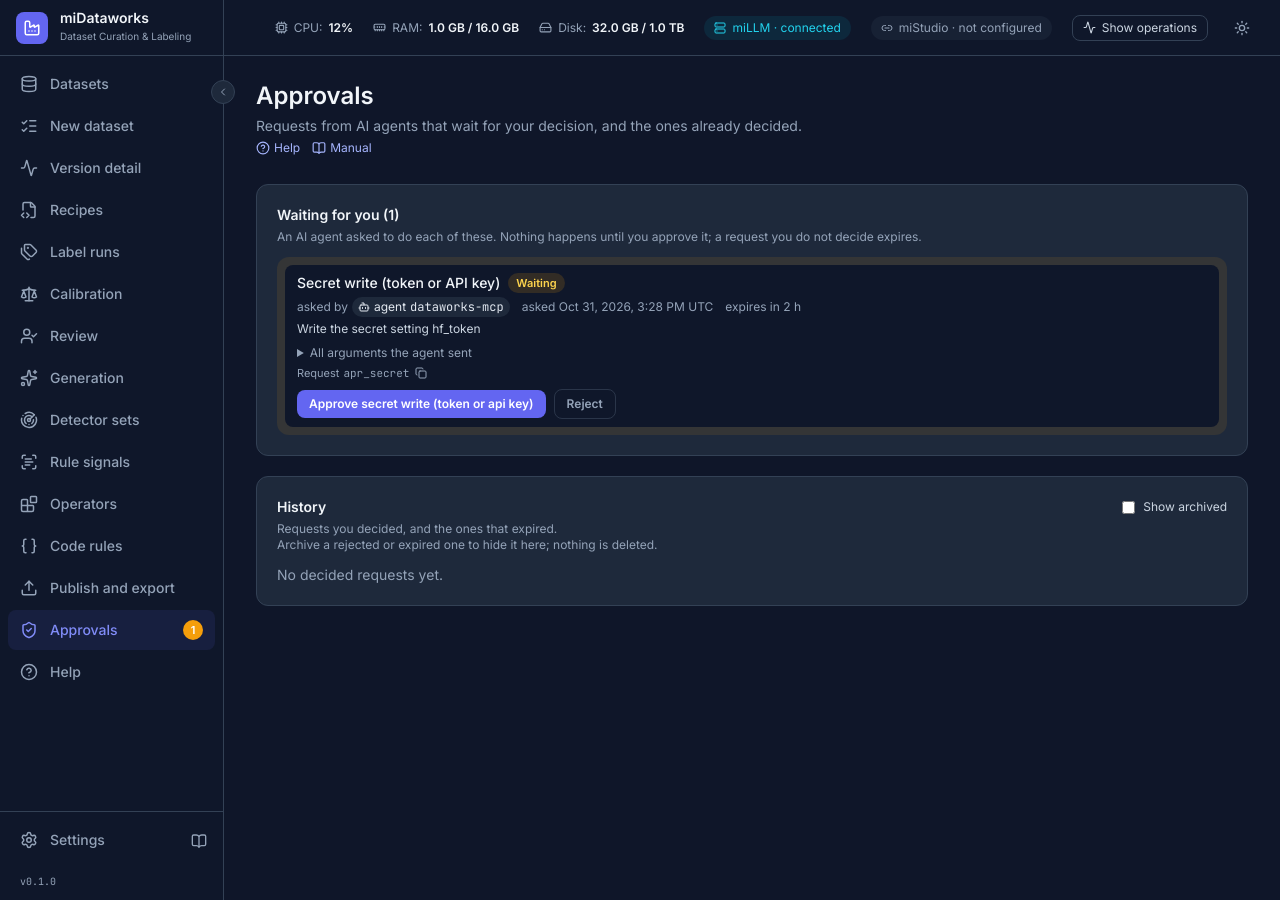
approving from the Approvals screen › approving a settings change asks for the Settings PIN, then sends the approval again with the session (014)
This screenshot has width=1280, height=900.
Step 1. Click the button "Approve secret write (token or api key)" → (421, 404), box x1=297 y1=390 x2=546 y2=418
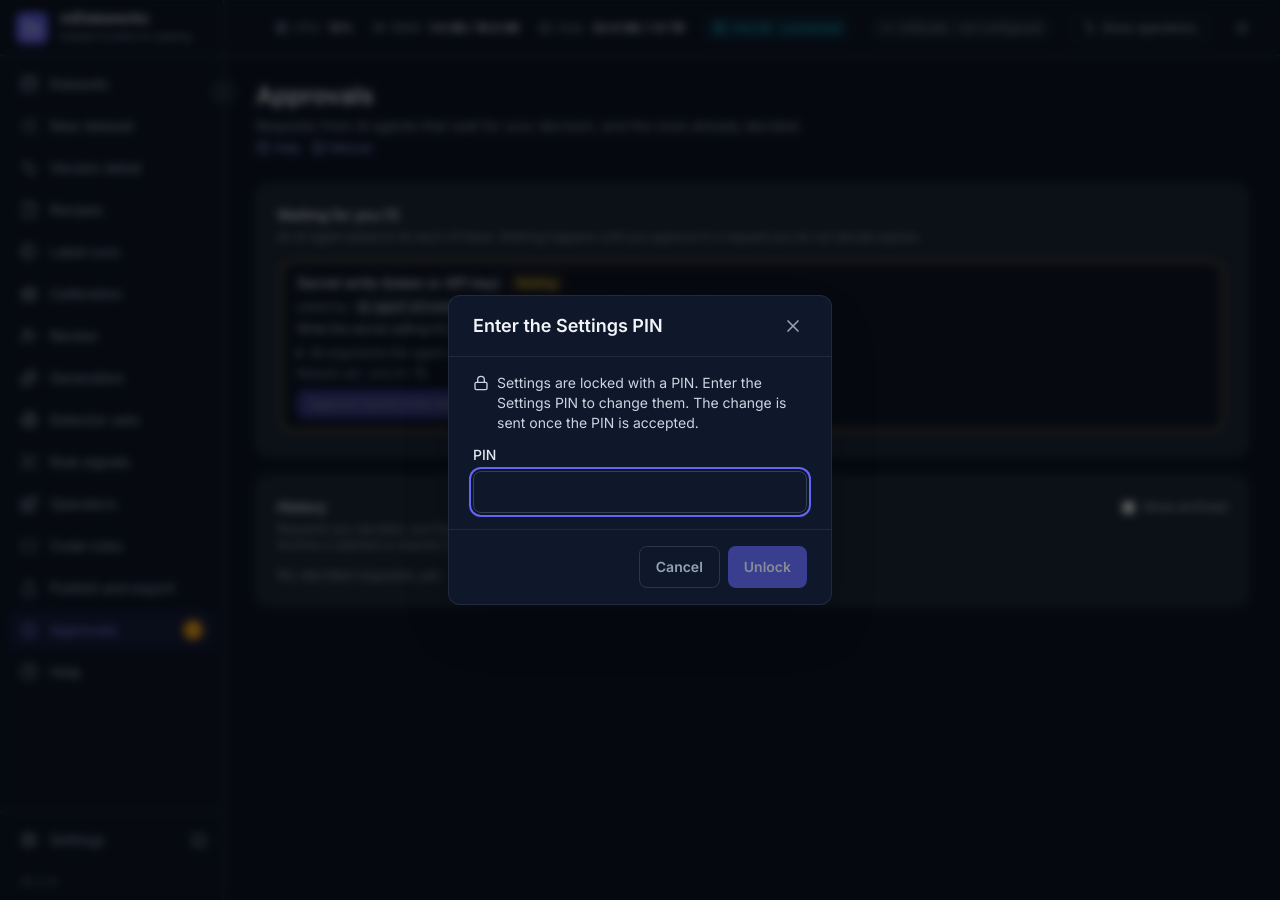
Step 2. Type "4711" into the password field labelled "PIN" → (640, 492), box x1=473 y1=471 x2=807 y2=513
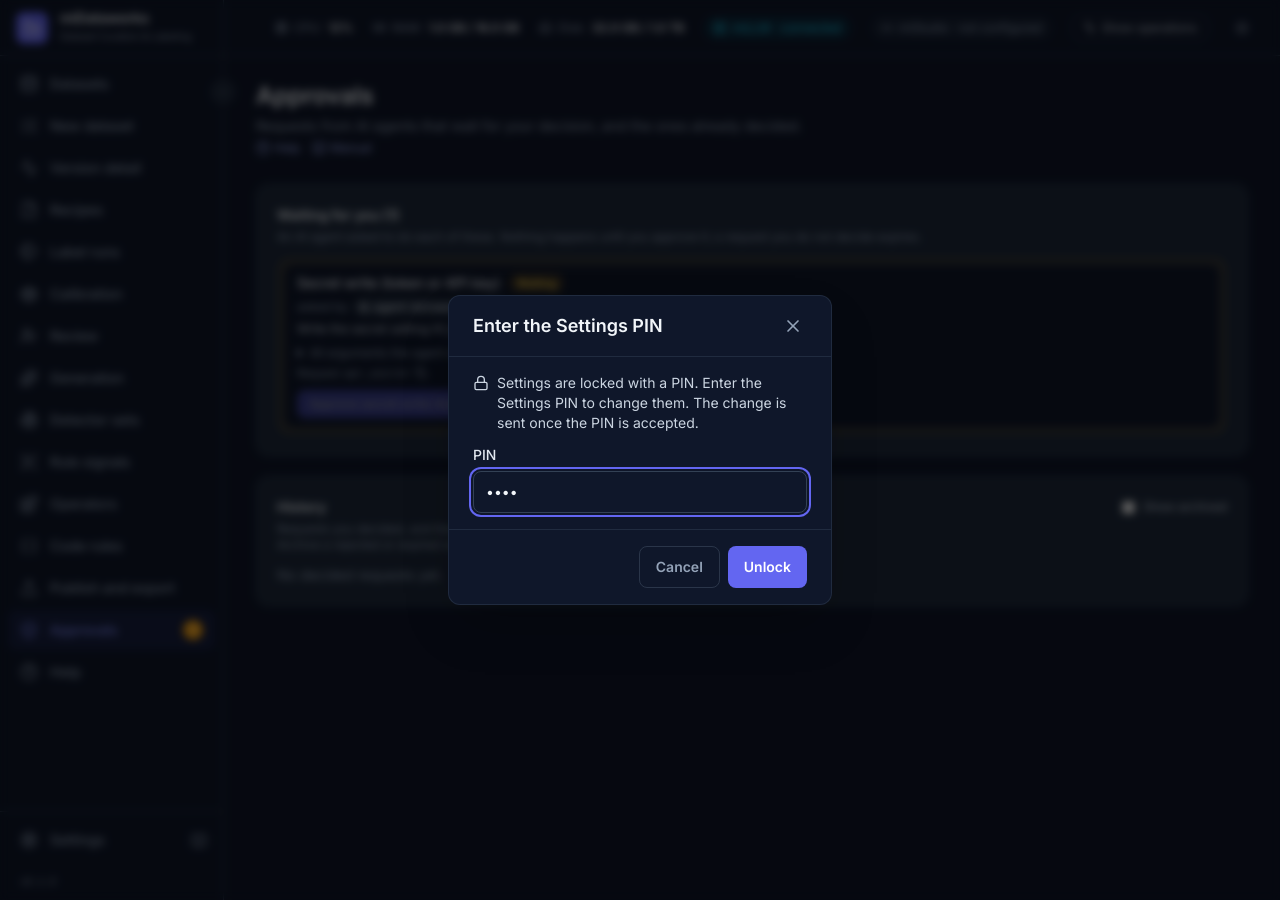
Step 3. Click the button with test id "pin-unlock" → (767, 567), box x1=728 y1=546 x2=807 y2=588
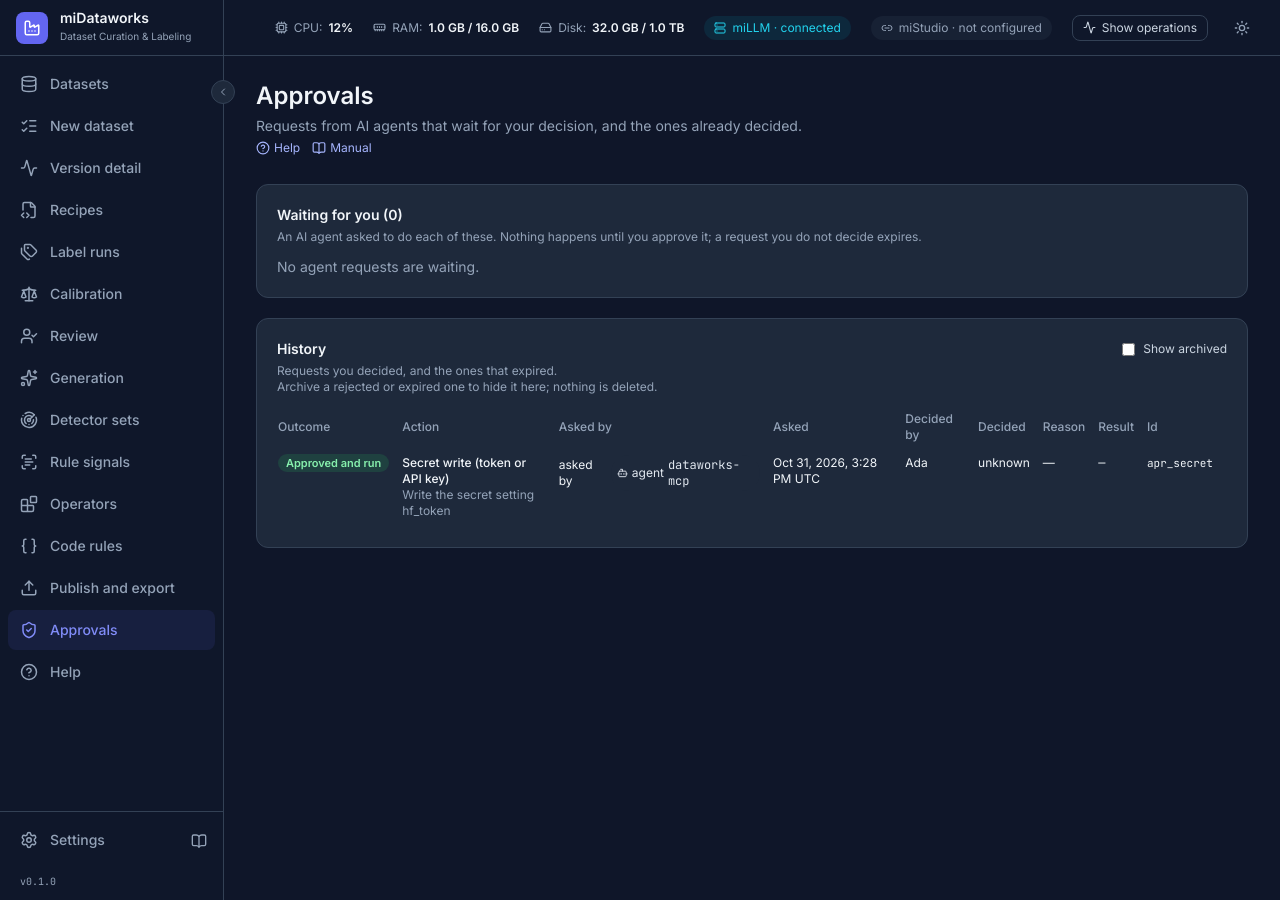
Result: the list item with test id "approval-row" is gone
